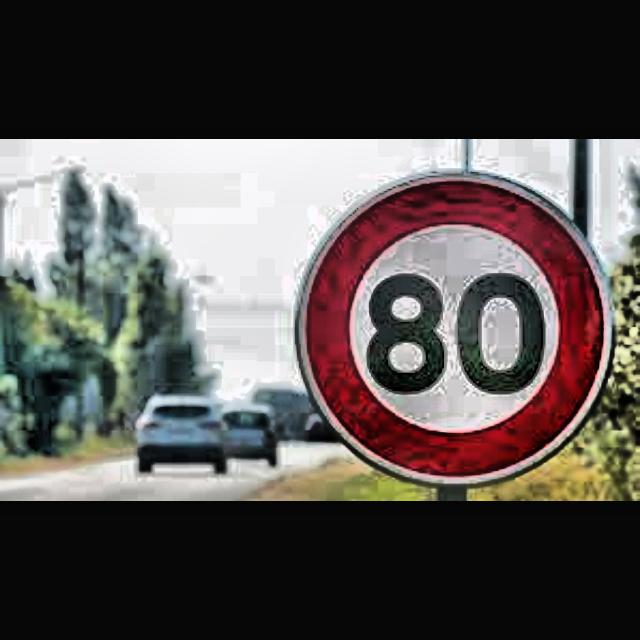speed_80: (304, 176, 610, 482)
